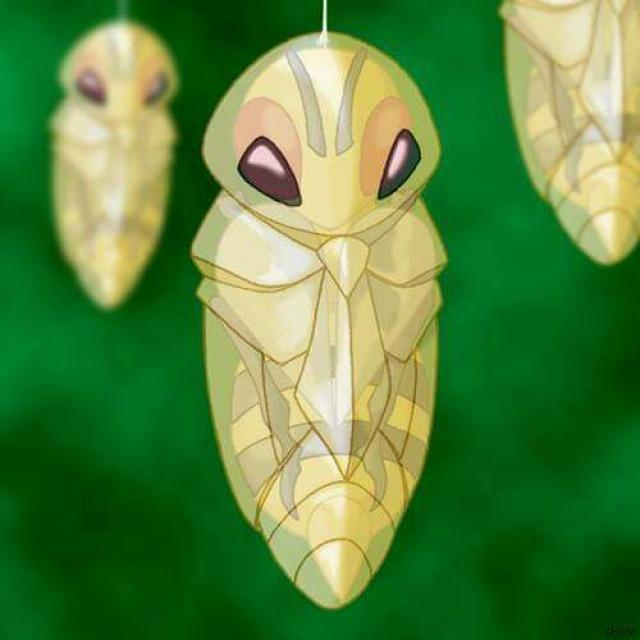Kakuna: (207, 42, 449, 618), (47, 18, 176, 312)
